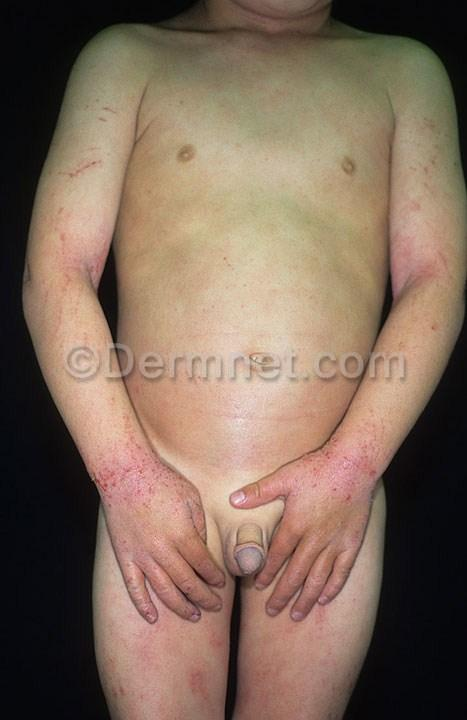eritema 1: (386, 228, 441, 309), (79, 237, 114, 295)
excoriacion 1: (89, 443, 176, 501), (306, 444, 381, 492)
exudacion 1: (88, 408, 188, 509), (296, 407, 388, 507), (64, 105, 121, 179)
